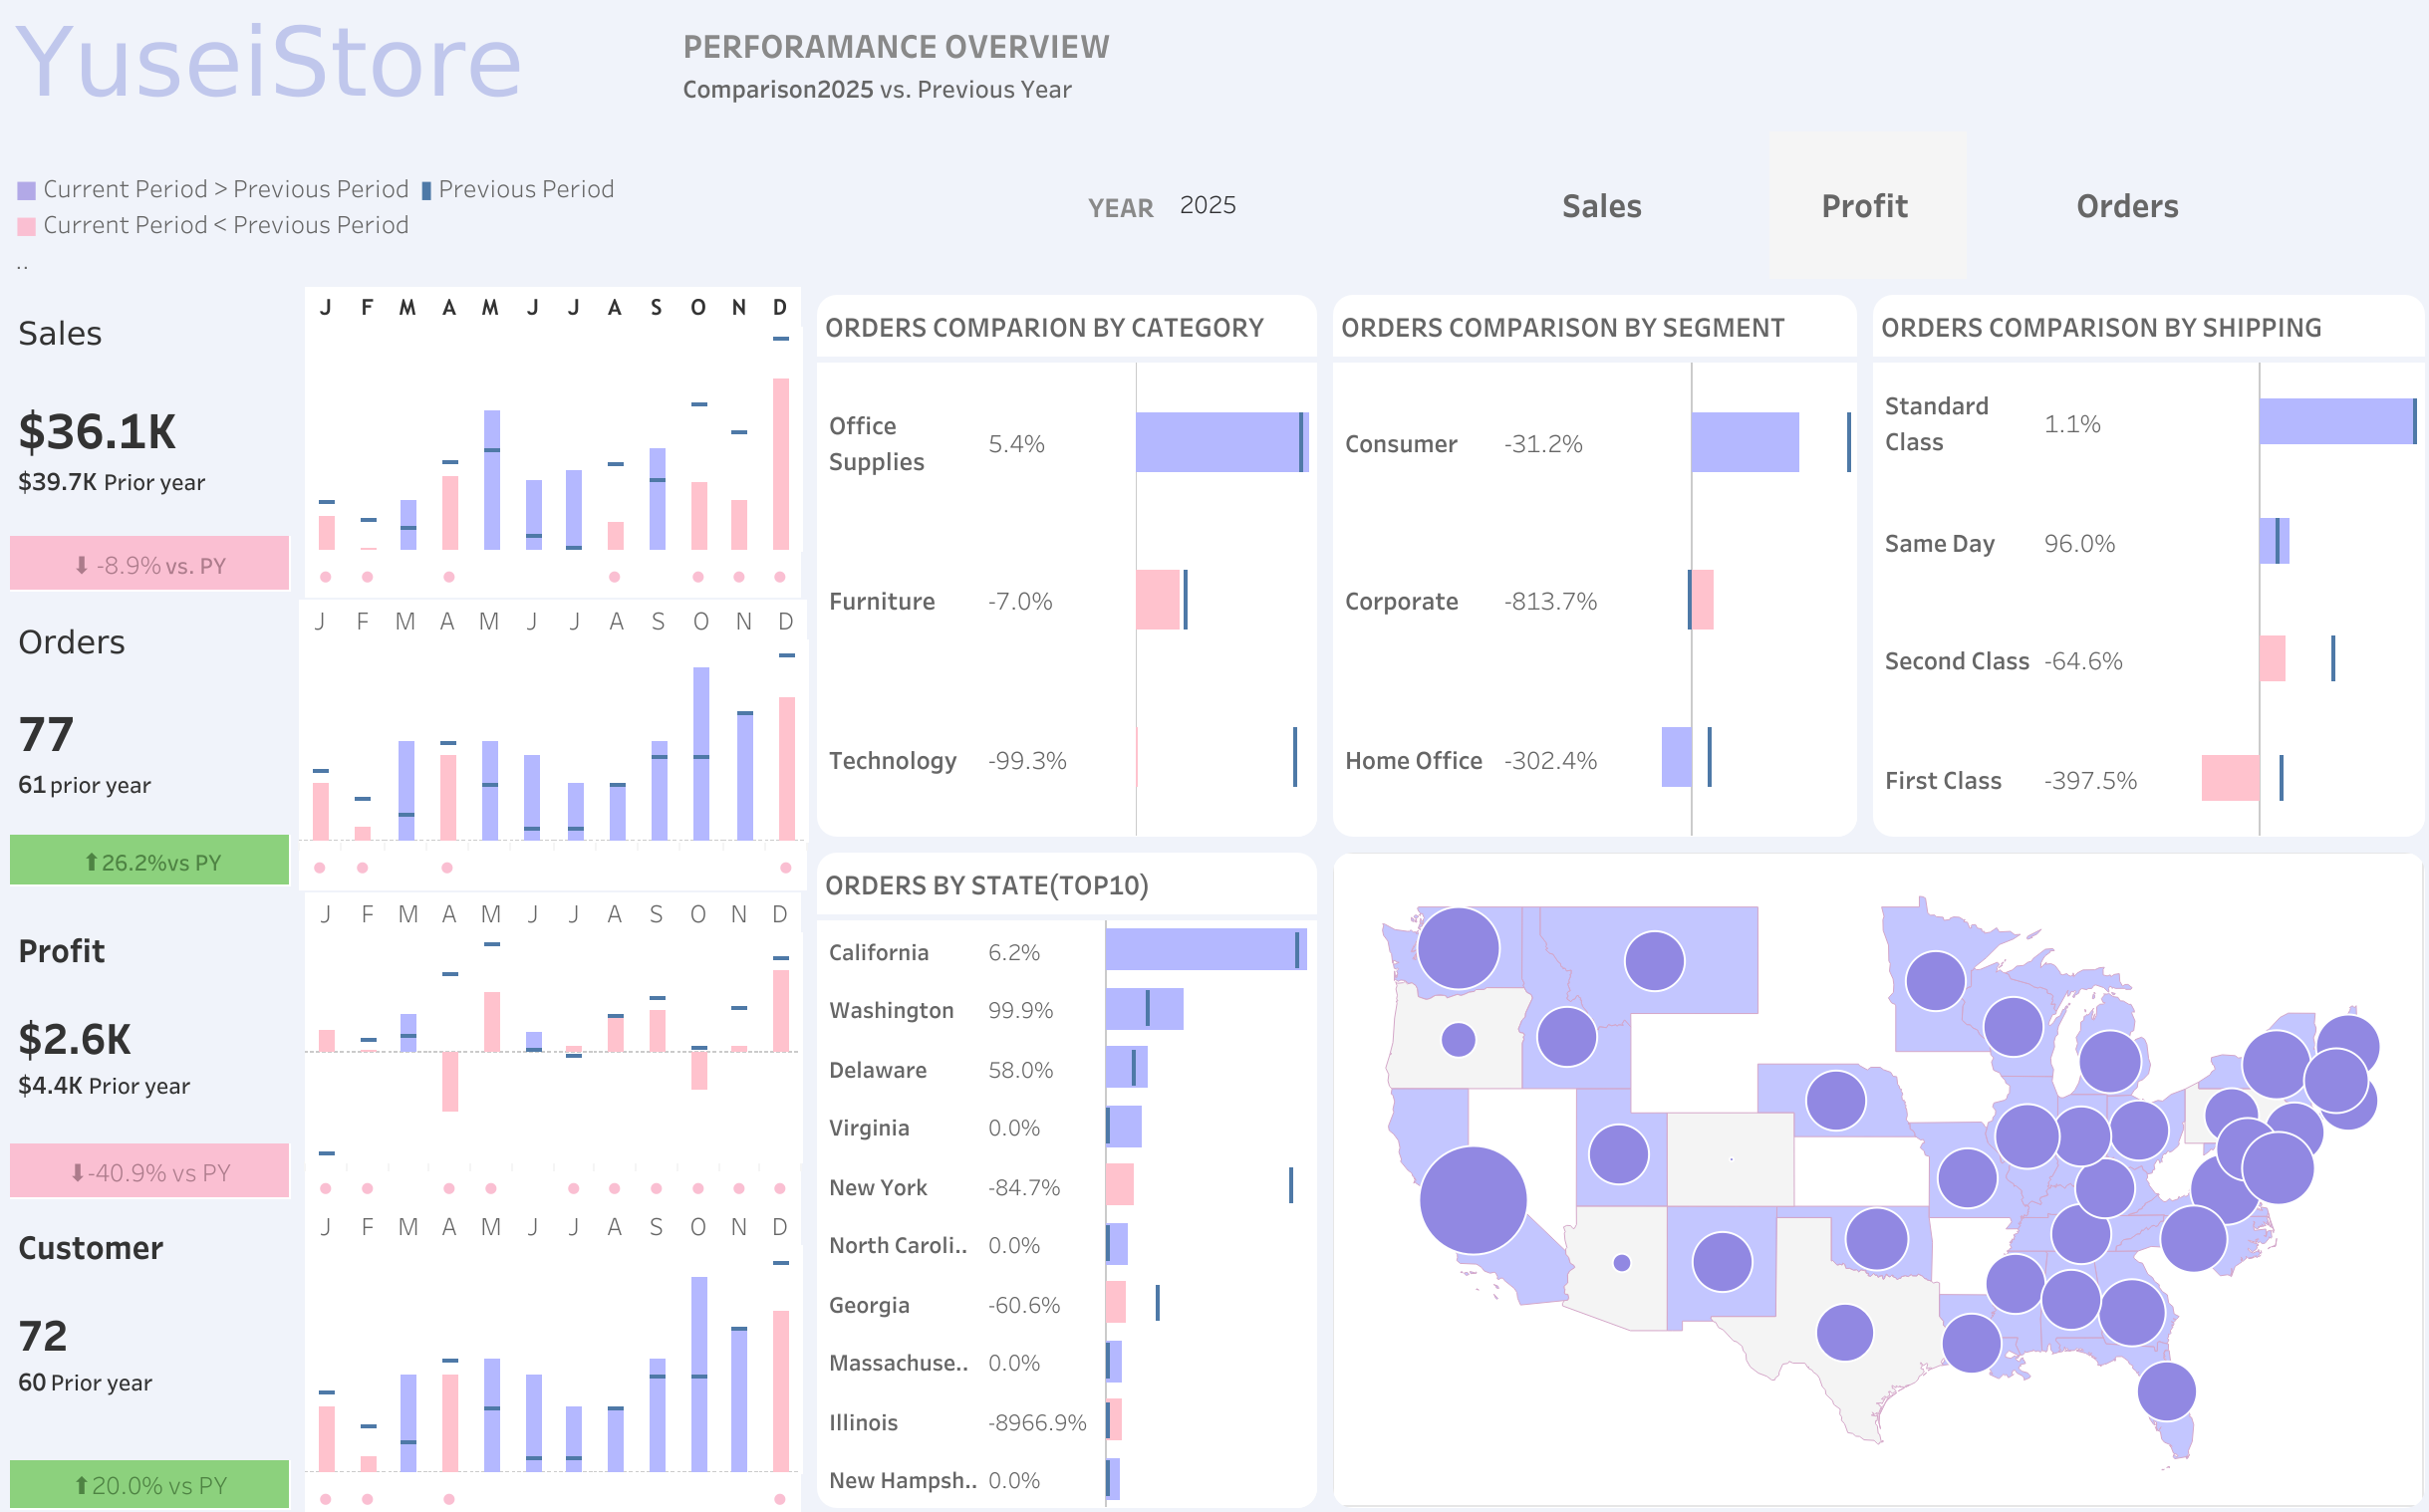

This screenshot's page, from the dashboard's own definition file:
{"tool":"tableau","page":{"name":"Dashboard 1","canvas":[1220,760],"ordinal":0},"visuals":[{"type":"text","box":[1,1,335,61]},{"type":"text","box":[336,1,337.7,61]},{"type":"blank","box":[673.7,1,273.7,61]},{"type":"blank","box":[947.3,1,273.7,61]},{"type":"blank","box":[8,8,1204,744]},{"type":"text","box":[1,62,348,82]},{"type":"text","box":[349,62,237,82]},{"type":"worksheet","title":"Sheet 18","mark":"Square","rows":["Calculation_1645552902914082"],"cols":["Calculation_1645552903884840","Calculation_1645552903917610","Calculation_1645552903942188"],"box":[735,62,404,82]},{"type":"parameter","param":"[Parameters].[Parameter 1]","box":[586,89.3,77,27.3]},{"type":"worksheet","title":"Sales","mark":"Automatic","box":[1,144,148,120.8]},{"type":"worksheet","title":"Sales Graph","mark":"Bar","rows":["Calculation_1645552504905728","Sales Selected Year (copy)_1645552505704449"],"cols":["Order Date","Calculation_1645552506933252"],"box":[149,144,257,155.7]},{"type":"worksheet","title":"Category Bar","mark":"Automatic","rows":["Category","Metric Swap Caluc (copy)_1645552880738335"],"cols":["Calculation_1645552877109275","Metric Swap Caluc (copy)_1645552879271966"],"box":[406,144,259,279.5]},{"type":"worksheet","title":"Segment Bar","mark":"Automatic","rows":["Segment","Metric Swap Caluc (copy)_1645552880738335"],"cols":["Calculation_1645552877109275","Metric Swap Caluc (copy)_1645552879271966"],"box":[665,144,271.5,279.5]},{"type":"worksheet","title":"Ship Bar (2)","mark":"Automatic","rows":["Ship Mode","Metric Swap Caluc (copy)_1645552880738335"],"cols":["Calculation_1645552877109275","Metric Swap Caluc (copy)_1645552879271966"],"box":[936.5,144,284.5,279.5]},{"type":"worksheet","title":"Sales bun","mark":"Square","box":[1,264.8,148,34.9]},{"type":"worksheet","title":"Orders","mark":"Automatic","box":[1,299.7,148,114.8]},{"type":"worksheet","title":"Orders Graph","mark":"Bar","rows":["Profit Selected Year  (copy)_1645552581623822","Profit Previous Year (copy)_1645552581345293"],"cols":["Order Date","⚫profit (copy)_1645552582311953"],"box":[149,299.7,257,148.8]},{"type":"worksheet","title":"Orders (2)","mark":"Square","box":[1,414.5,148,33.9]},{"type":"worksheet","title":"State Bar (3)","mark":"Automatic","rows":["State/Province","Metric Swap Caluc (copy)_1645552880738335"],"cols":["Calculation_1645552877109275","Metric Swap Caluc (copy)_1645552879271966"],"box":[406,423.5,259,337.5]},{"type":"worksheet","title":"Map","mark":"Multipolygon","box":[665,423.5,556,337.5]},{"type":"worksheet","title":"Profit","mark":"Automatic","box":[1,448.5,148,121.8]},{"type":"worksheet","title":"Profit Graph","mark":"Square","rows":["Sales Selected Year (copy)_1645552580079624","Sales Previous Year (copy)_1645552580186121"],"cols":["Order Date","⚫sales (copy)_1645552580435979"],"box":[149,448.5,257,156.8]},{"type":"worksheet","title":"Profit (2)","mark":"Square","box":[1,570.3,148,34.9]},{"type":"worksheet","title":"Customer","mark":"Automatic","box":[1,605.2,148,123.8]},{"type":"worksheet","title":"Customer Graph","mark":"Square","rows":["Order Selected Year   (copy)_1645552583376917","Order Previous Year  (copy)_1645552583303188"],"cols":["Order Date","⚫order (copy)_1645552583761944"],"box":[149,605.2,257,155.8]},{"type":"worksheet","title":"Customer (2)","mark":"Square","box":[1,729,148,32]}]}

Visuals, with their boxes in screenshot pixels (x1, y1, x2, y2), scaled from the page's 1220x760 canvas onto the 2429x1512 screenshot:
text: 2 2 669 124
text: 669 2 1341 124
blank: 1341 2 1886 124
blank: 1886 2 2428 124
blank: 16 16 2413 1496
text: 2 124 694 287
text: 694 124 1167 287
"Sheet 18" worksheet (Square marks): 1464 124 2268 287
parameter: 1167 177 1320 232
"Sales" worksheet: 2 287 297 527
"Sales Graph" worksheet (Bar marks): 297 287 808 597
"Category Bar" worksheet: 808 287 1324 843
"Segment Bar" worksheet: 1324 287 1864 843
"Ship Bar (2)" worksheet: 1864 287 2428 843
"Sales bun" worksheet (Square marks): 2 527 297 597
"Orders" worksheet: 2 597 297 825
"Orders Graph" worksheet (Bar marks): 297 597 808 892
"Orders (2)" worksheet (Square marks): 2 825 297 892
"State Bar (3)" worksheet: 808 843 1324 1511
"Map" worksheet (Multipolygon marks): 1324 843 2428 1511
"Profit" worksheet: 2 892 297 1134
"Profit Graph" worksheet (Square marks): 297 892 808 1204
"Profit (2)" worksheet (Square marks): 2 1134 297 1204
"Customer" worksheet: 2 1204 297 1450
"Customer Graph" worksheet (Square marks): 297 1204 808 1511
"Customer (2)" worksheet (Square marks): 2 1450 297 1511
